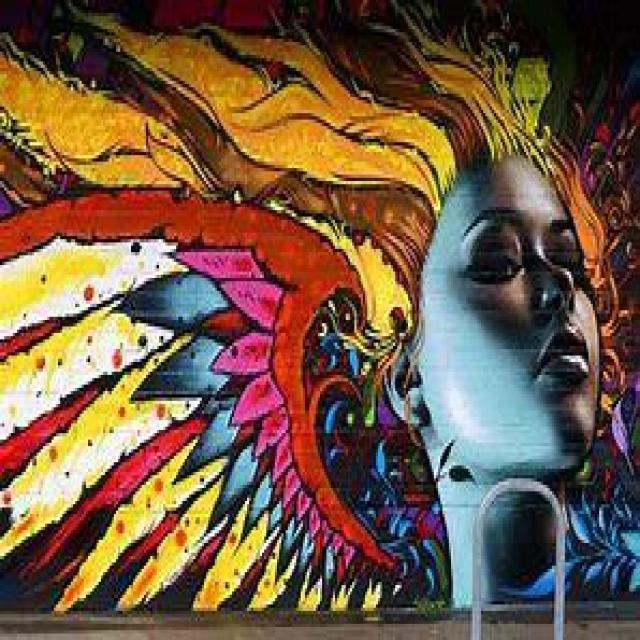nonspitting: (0, 6, 640, 618)
spitting: (382, 152, 602, 606)
